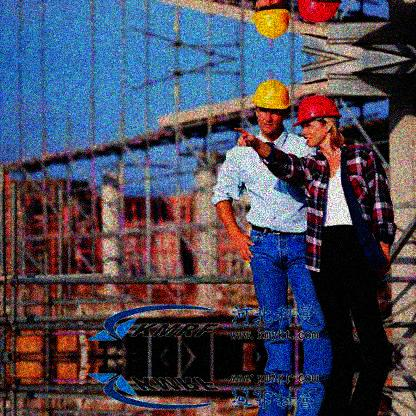helmet: (291, 95, 342, 147), (252, 79, 293, 134), (252, 1, 292, 39)
